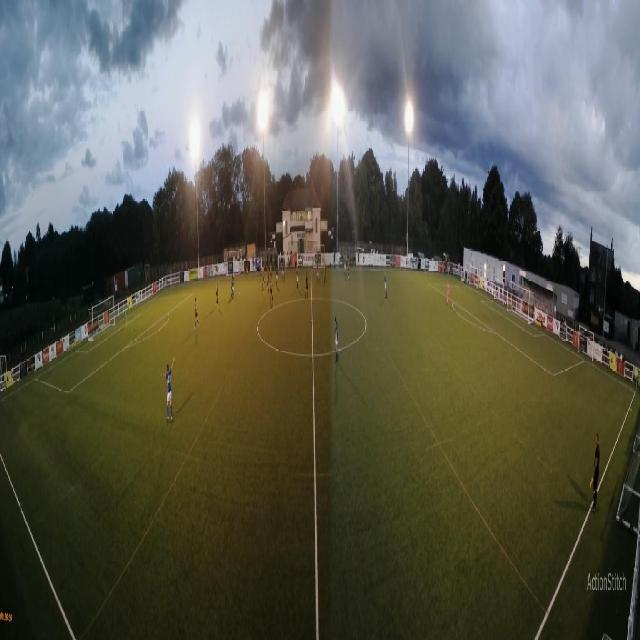ball: (239, 291, 241, 296)
player: (161, 356, 175, 423), (194, 298, 200, 330), (335, 317, 339, 364), (305, 272, 309, 299), (216, 281, 220, 307), (269, 278, 273, 304), (262, 269, 267, 289), (324, 259, 328, 283), (316, 263, 320, 284), (384, 271, 387, 299), (267, 265, 270, 290), (447, 281, 450, 306), (125, 304, 128, 328), (230, 275, 233, 299), (344, 255, 347, 279), (232, 276, 235, 298), (276, 266, 279, 288), (260, 259, 263, 280), (282, 262, 285, 281), (270, 262, 273, 280), (296, 265, 298, 291), (348, 258, 350, 280)
